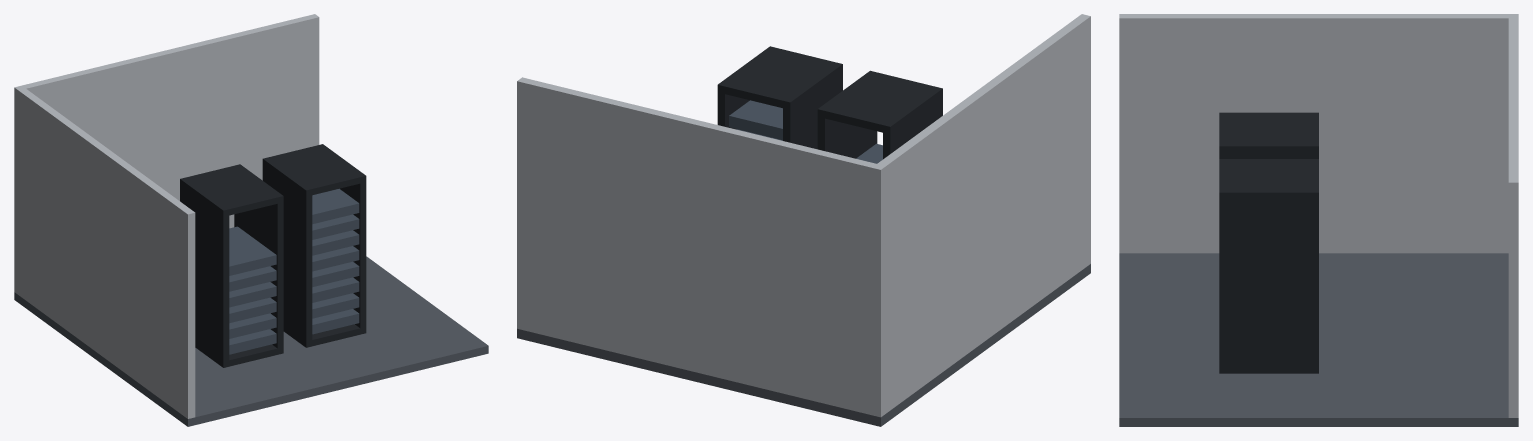
The model's file is server-room.glb.
The picture shows the model from 3 angles, left to right: view 1: azimuth 30°, elevation 25°; view 2: azimuth 150°, elevation 25°; view 3: azimuth 270°, elevation 25°; orthographic projection. The views are drawn at different scales.
Parts seen in each view (by area): view 1: room_wall_left, room_wall_back, room_floor, rack_01_frame_left, rack_02_frame_left, rack_01_frame_top, rack_02_frame_top, rack_01_frame_right, rack_02_frame_right, server_01_06, server_02_08, rack_01_frame_bottom (+13 smaller); view 2: room_wall_back, room_wall_left, room_floor, rack_02_frame_top, rack_01_frame_top, rack_02_frame_left, rack_01_frame_right, rack_01_frame_left, server_02_08, rack_02_frame_right; view 3: room_wall_left, room_floor, rack_02_frame_right, room_wall_back, rack_02_frame_top, rack_01_frame_top, rack_01_frame_right.
Part boxes in pixels (x1,y1,x2,y2): room_wall_left: (14, 87, 195, 418); room_wall_back: (14, 14, 319, 294); room_floor: (14, 256, 488, 426); rack_01_frame_left: (180, 177, 229, 367); rack_02_frame_left: (262, 159, 312, 347); rack_01_frame_top: (180, 164, 283, 216); rack_02_frame_top: (262, 144, 366, 196); rack_01_frame_right: (234, 196, 283, 352); rack_02_frame_right: (327, 148, 366, 334); server_01_06: (229, 226, 276, 275); server_02_08: (312, 188, 359, 224); rack_01_frame_bottom: (195, 341, 283, 367); room_wall_back: (517, 77, 885, 417); room_wall_left: (871, 14, 1090, 416); room_floor: (517, 264, 1090, 426); rack_02_frame_top: (717, 46, 842, 108); rack_01_frame_top: (818, 70, 942, 134); rack_02_frame_left: (783, 64, 842, 149); rack_01_frame_right: (817, 109, 877, 158); rack_01_frame_left: (883, 92, 942, 159); server_02_08: (729, 100, 782, 140); rack_02_frame_right: (717, 46, 776, 129); room_wall_left: (1119, 14, 1517, 253); room_floor: (1119, 253, 1518, 426); rack_02_frame_right: (1219, 191, 1318, 373); room_wall_back: (1508, 14, 1518, 417); rack_02_frame_top: (1219, 159, 1318, 199); rack_01_frame_top: (1219, 112, 1318, 149); rack_01_frame_right: (1219, 143, 1318, 158).
Bounding box in the file's own units: 4 × 2.7 × 4.
